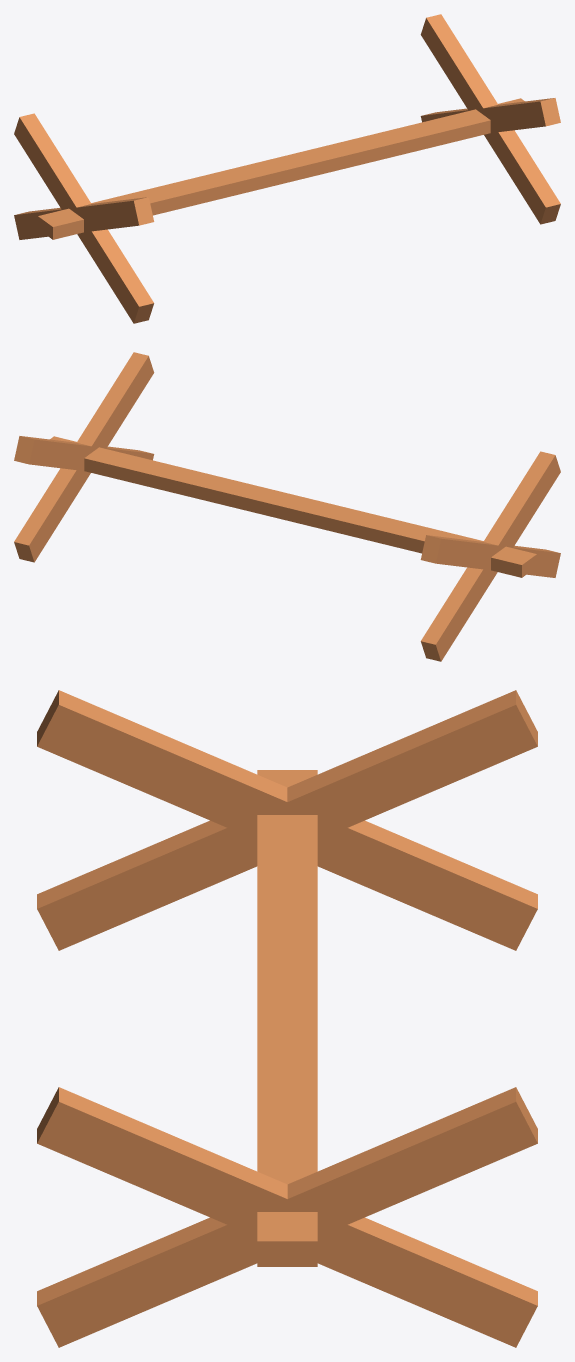
File: bedrollFrame.dae
3 renders of one model, top to bottom at view 1: azimuth 30°, elevation 25°; view 2: azimuth 150°, elevation 25°; view 3: azimuth 270°, elevation 25°, orthographic. The views are drawn at different scales.
Parts seen in each view (by area): view 1: bedrollFrame; view 2: bedrollFrame; view 3: bedrollFrame.
Part boxes in pixels (box(x1,y1,x2,y2)): bedrollFrame: box(14, 14, 560, 323); bedrollFrame: box(14, 352, 560, 661); bedrollFrame: box(37, 690, 537, 1347).
Bounding box in the file's own units: 2.43 × 0.5908 × 1.09.
